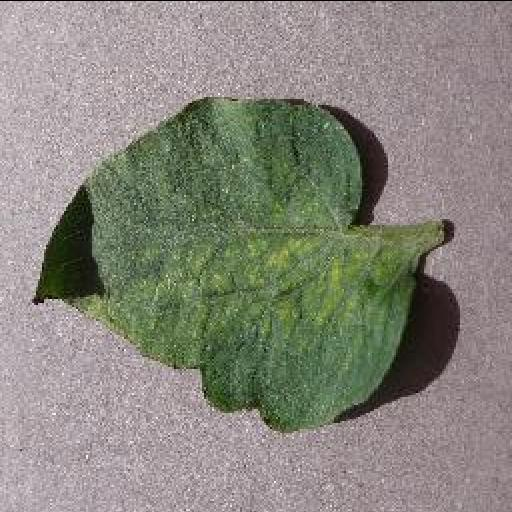disease_tomato: (30, 94, 416, 432)
